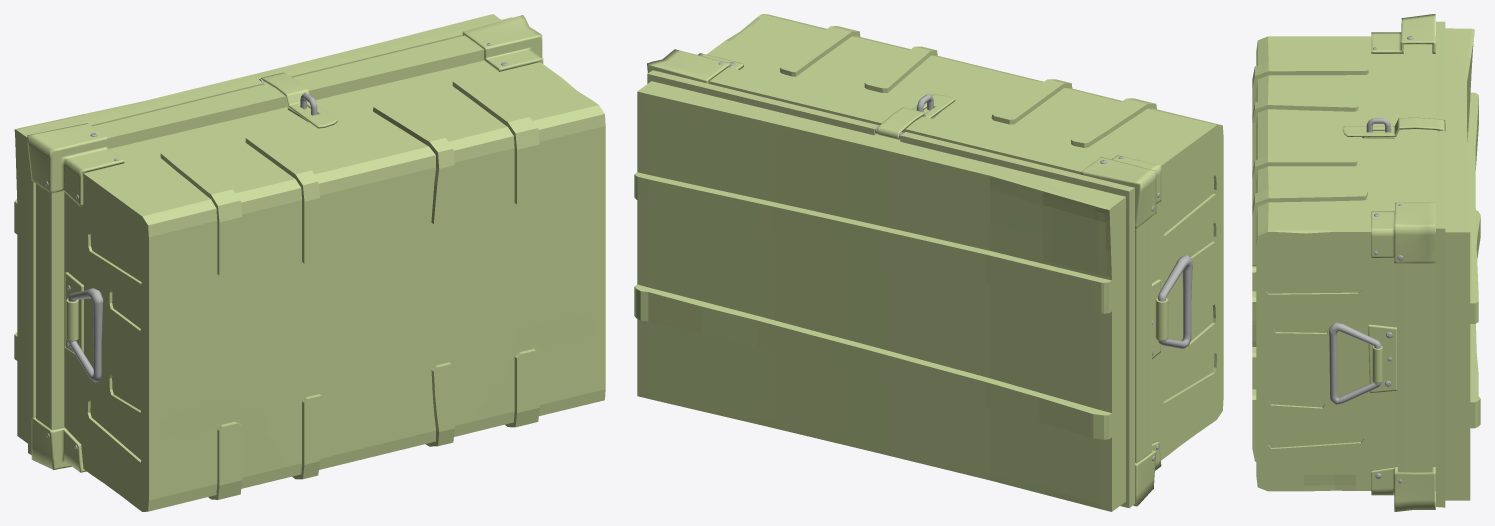
The model's file is TRUNK_ARMY_UI.fbx.
3 renders of one model, left to right at view 1: azimuth 30°, elevation 25°; view 2: azimuth 150°, elevation 25°; view 3: azimuth 270°, elevation 25°, orthographic. The views are drawn at different scales.
Parts seen in each view (by area): view 1: TRUNK_ARMY_UI; view 2: TRUNK_ARMY_UI; view 3: TRUNK_ARMY_UI.
Boxes of the visible parts, left/top/right/bottom form: TRUNK_ARMY_UI: left=14, top=14, right=605, bottom=511; TRUNK_ARMY_UI: left=634, top=14, right=1223, bottom=511; TRUNK_ARMY_UI: left=1252, top=14, right=1480, bottom=511.
Bounding box in the file's own units: 5.64 × 3.62 × 2.56.
